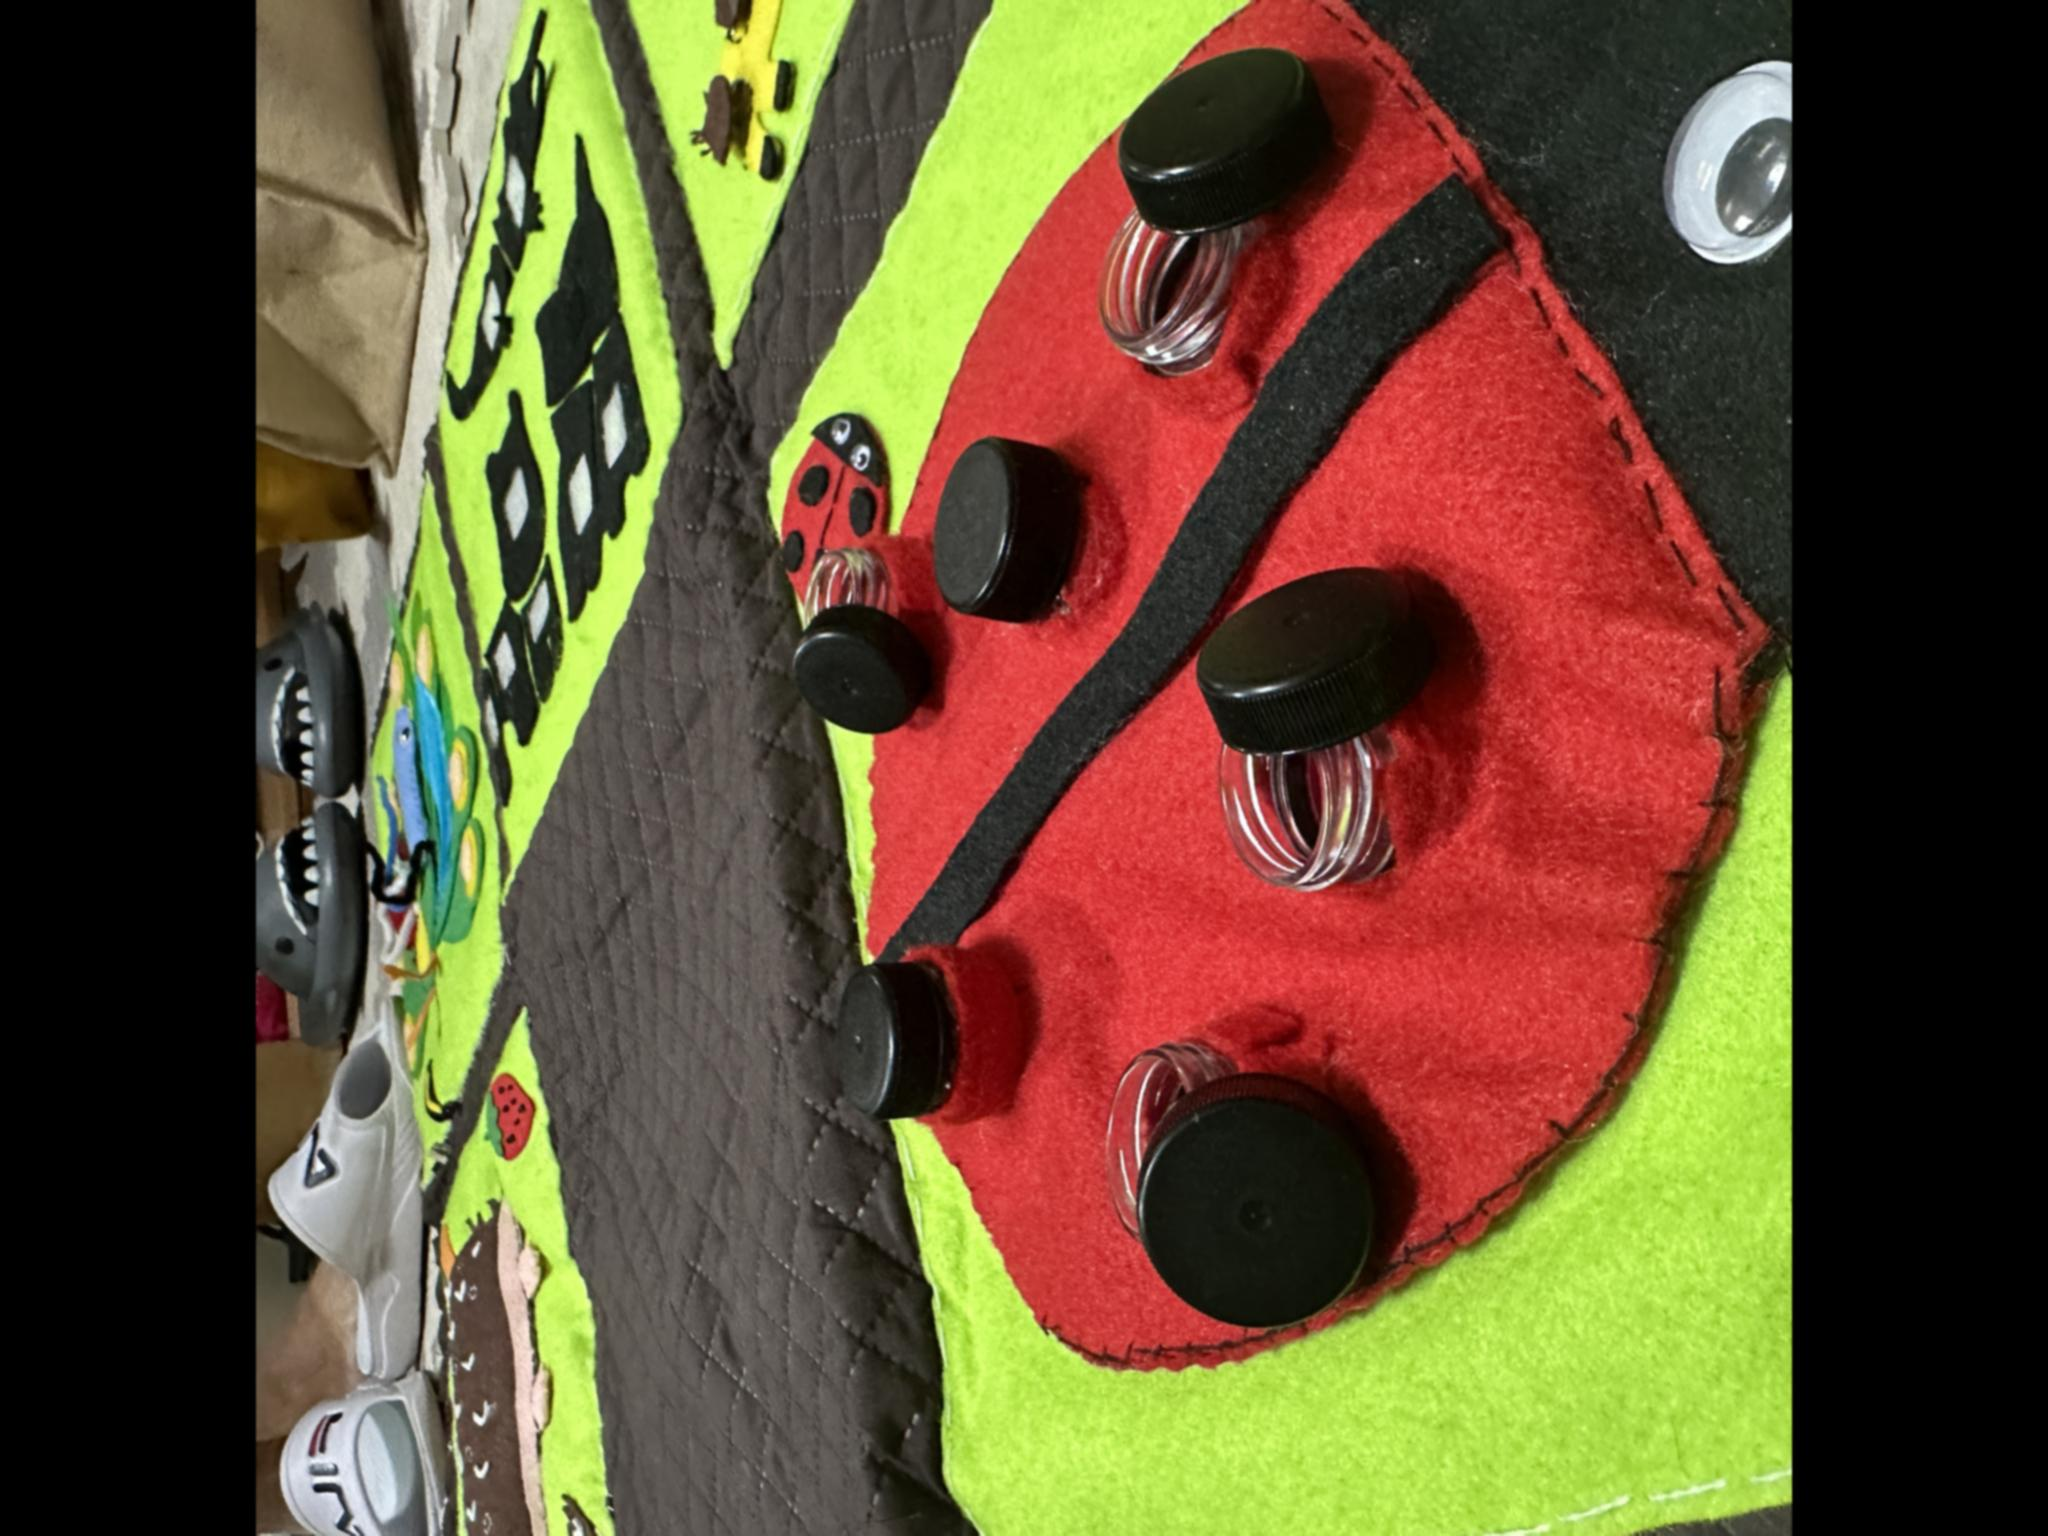cap_ng: (1090, 1021, 1388, 1334), (1192, 573, 1471, 894), (1095, 40, 1334, 397), (785, 537, 939, 750)
cap_ok: (834, 925, 1040, 1157), (924, 424, 1127, 645)
